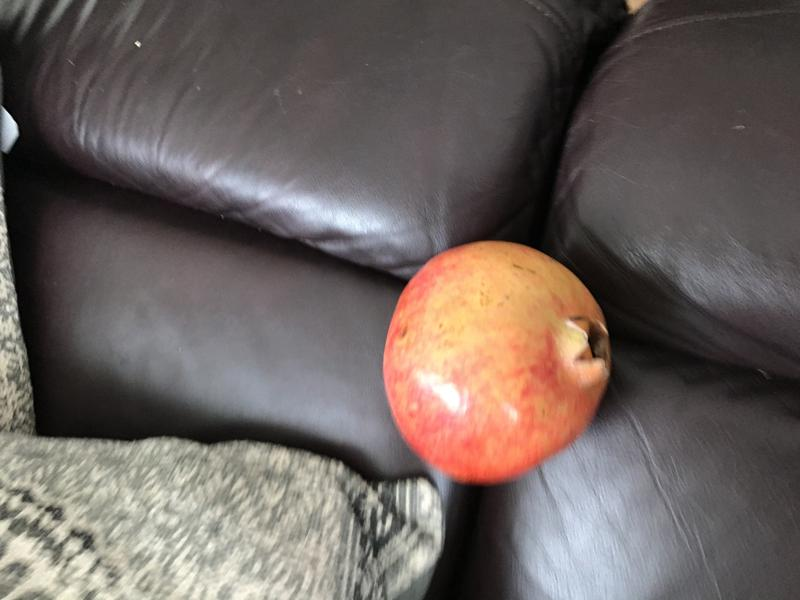pomegranate: (367, 234, 622, 494)
